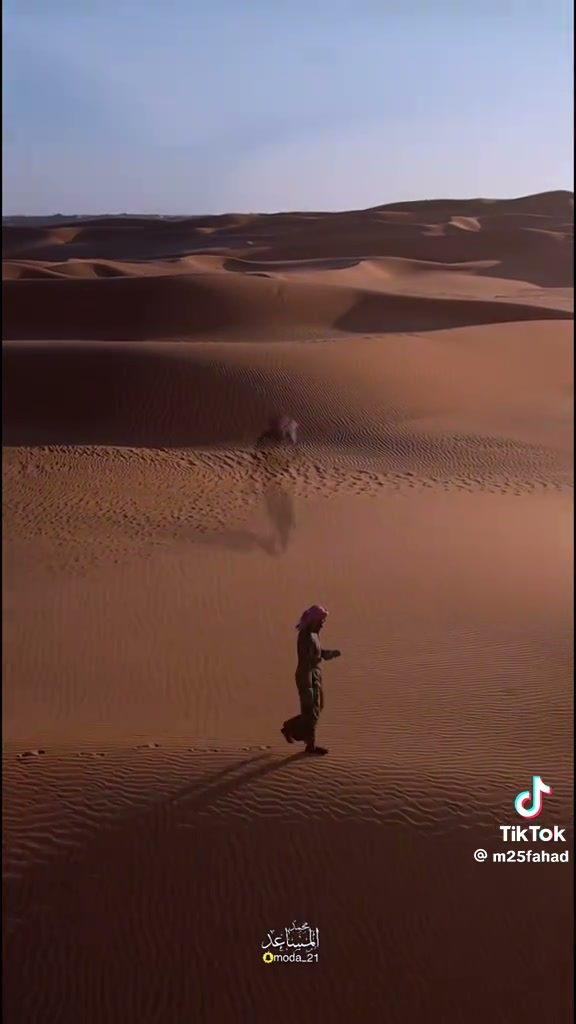human: (281, 605, 339, 754), (254, 416, 297, 550)
human_foot_print: (15, 740, 52, 765), (218, 745, 268, 763), (88, 745, 131, 765), (140, 738, 167, 754)
